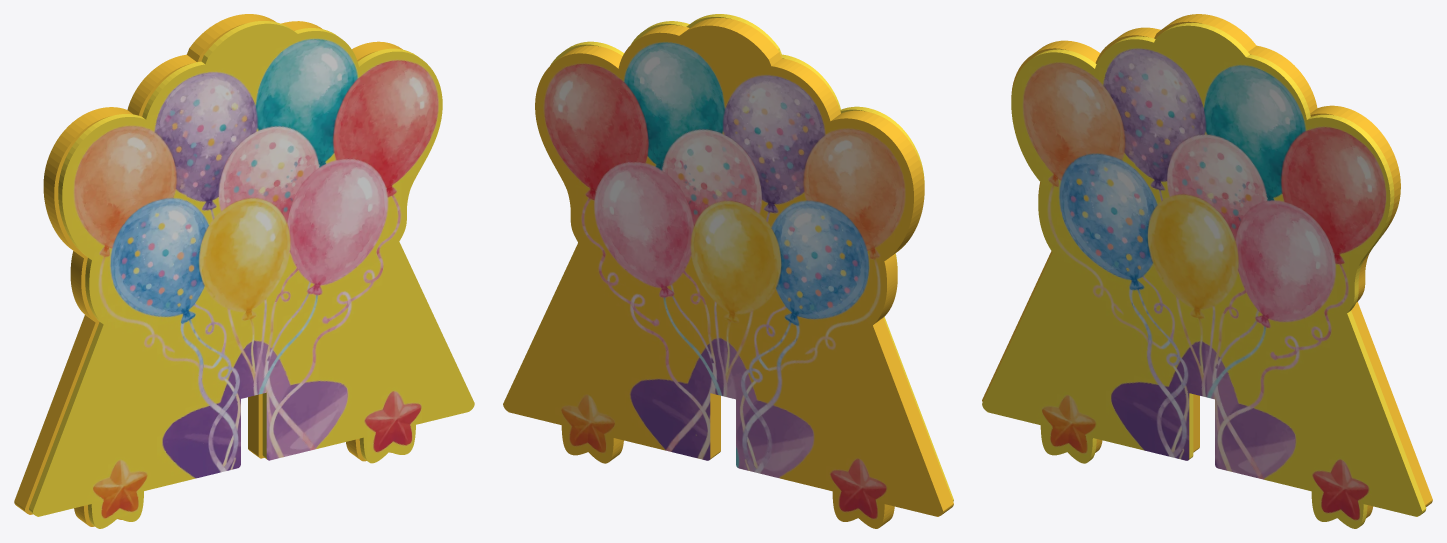
The model's file is narrow-left-top.glb.
The picture shows the model from 3 angles, left to right: view 1: azimuth 30°, elevation 25°; view 2: azimuth 150°, elevation 25°; view 3: azimuth 330°, elevation 25°; orthographic projection.
Parts seen in each view (by area): view 1: narrow-left-top; view 2: narrow-left-top; view 3: narrow-left-top.
Part boxes in pixels (bbox=[...]): narrow-left-top: bbox=[14, 14, 474, 528]; narrow-left-top: bbox=[503, 14, 953, 528]; narrow-left-top: bbox=[982, 14, 1432, 528].
Bounding box in the file's own units: 578 × 579 × 33.
4 materials, 2 textured.
